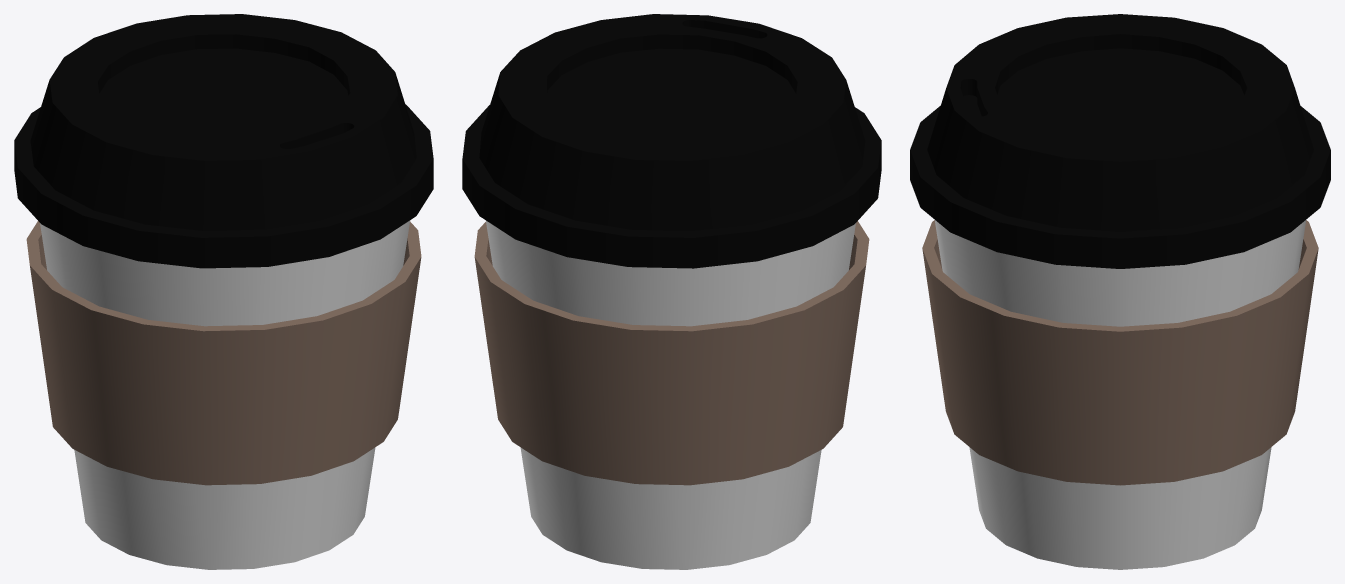
The model's file is vaso cafe.fbx.
The picture shows the model from 3 angles, left to right: view 1: azimuth 30°, elevation 25°; view 2: azimuth 150°, elevation 25°; view 3: azimuth 270°, elevation 25°; orthographic projection.
Parts seen in each view (by area): view 1: pCylinder4, pPipe2, pCylinder3; view 2: pCylinder4, pPipe2, pCylinder3; view 3: pCylinder4, pPipe2, pCylinder3.
Boxes of the visible parts, x1,y1,x2,y2 form: pCylinder4: (14, 14, 433, 268); pPipe2: (26, 221, 421, 485); pCylinder3: (40, 220, 410, 569); pCylinder4: (462, 14, 881, 268); pPipe2: (474, 221, 869, 485); pCylinder3: (486, 220, 855, 569); pCylinder4: (910, 14, 1330, 268); pPipe2: (922, 220, 1318, 485); pCylinder3: (934, 220, 1306, 569).
Size of the model in its own units: 0.5334 by 0.5905 by 0.5334.
